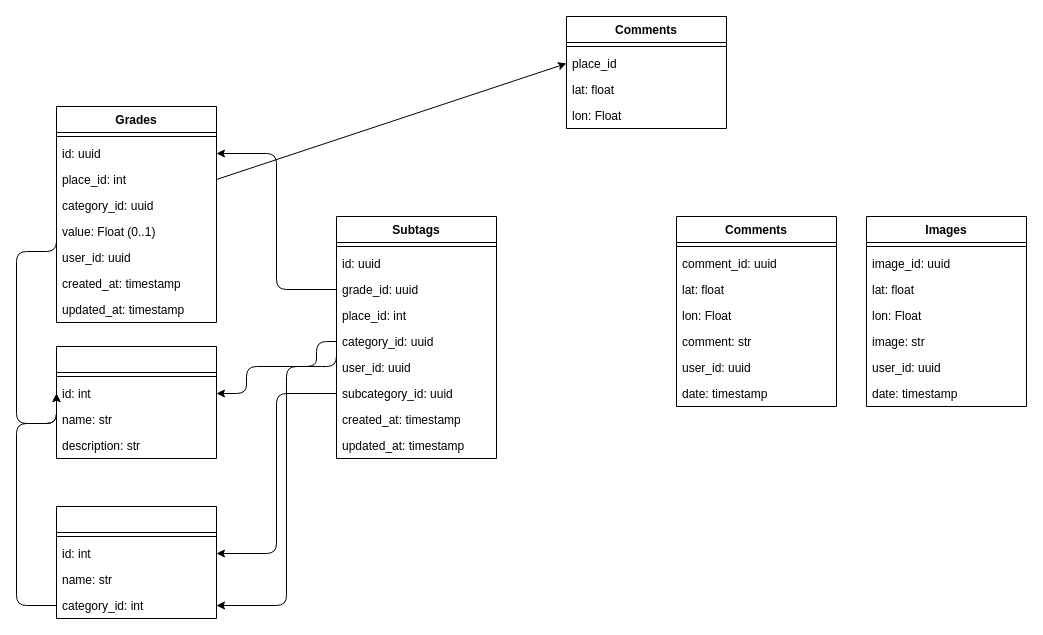
The diagram is 1043 pixels wide and 635 high, and some of its shapes have lost their labels. Here are the shapes that lost their labels. From the top down, the box of each, then its label:
(56, 346, 216, 458): Categories
(56, 506, 216, 618): Subcategories
